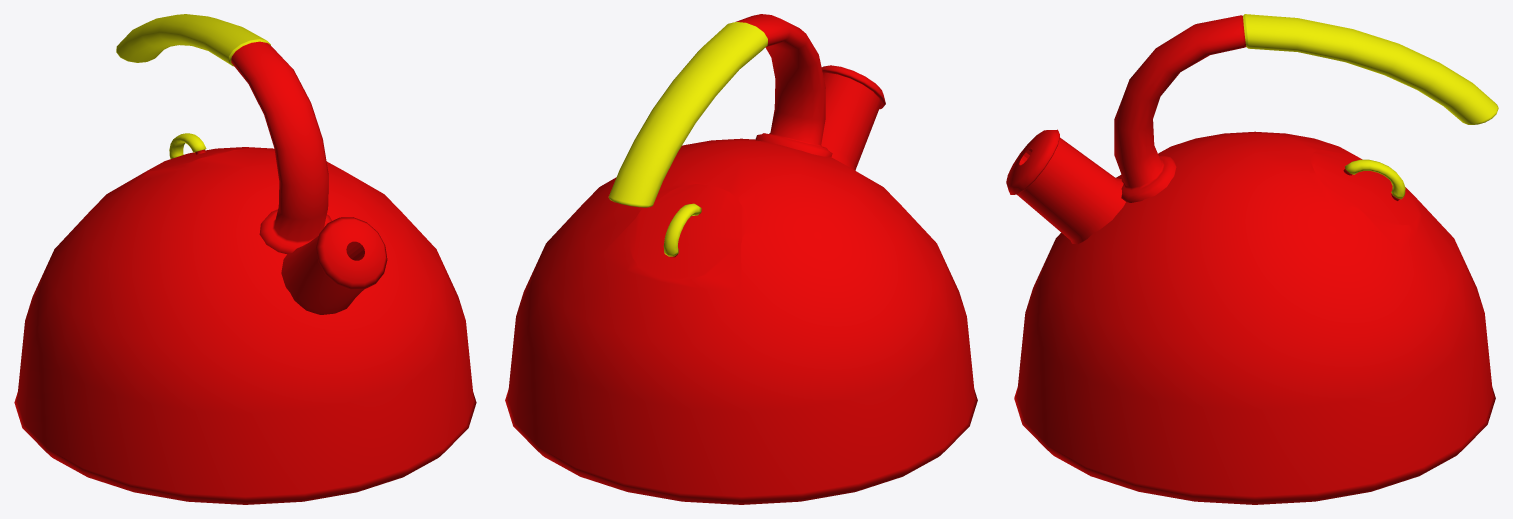
File: kettles_grp.fbx
3 renders of one model, left to right at view 1: azimuth 30°, elevation 25°; view 2: azimuth 150°, elevation 25°; view 3: azimuth 270°, elevation 25°, orthographic. The views are drawn at different scales.
Visible parts, largest first — view 1: kettle_1, kettle_lid_1; view 2: kettle_1, kettle_lid_1; view 3: kettle_1, kettle_lid_1.
Boxes of the visible parts, x1,y1,x2,y2 form: kettle_1: (14,14,476,504); kettle_lid_1: (144,133,250,172); kettle_1: (505,14,977,504); kettle_lid_1: (629,184,747,280); kettle_1: (1006,14,1498,504); kettle_lid_1: (1310,150,1418,225).
Bounding box in the file's own units: 20.26 × 18.07 × 20.72.
